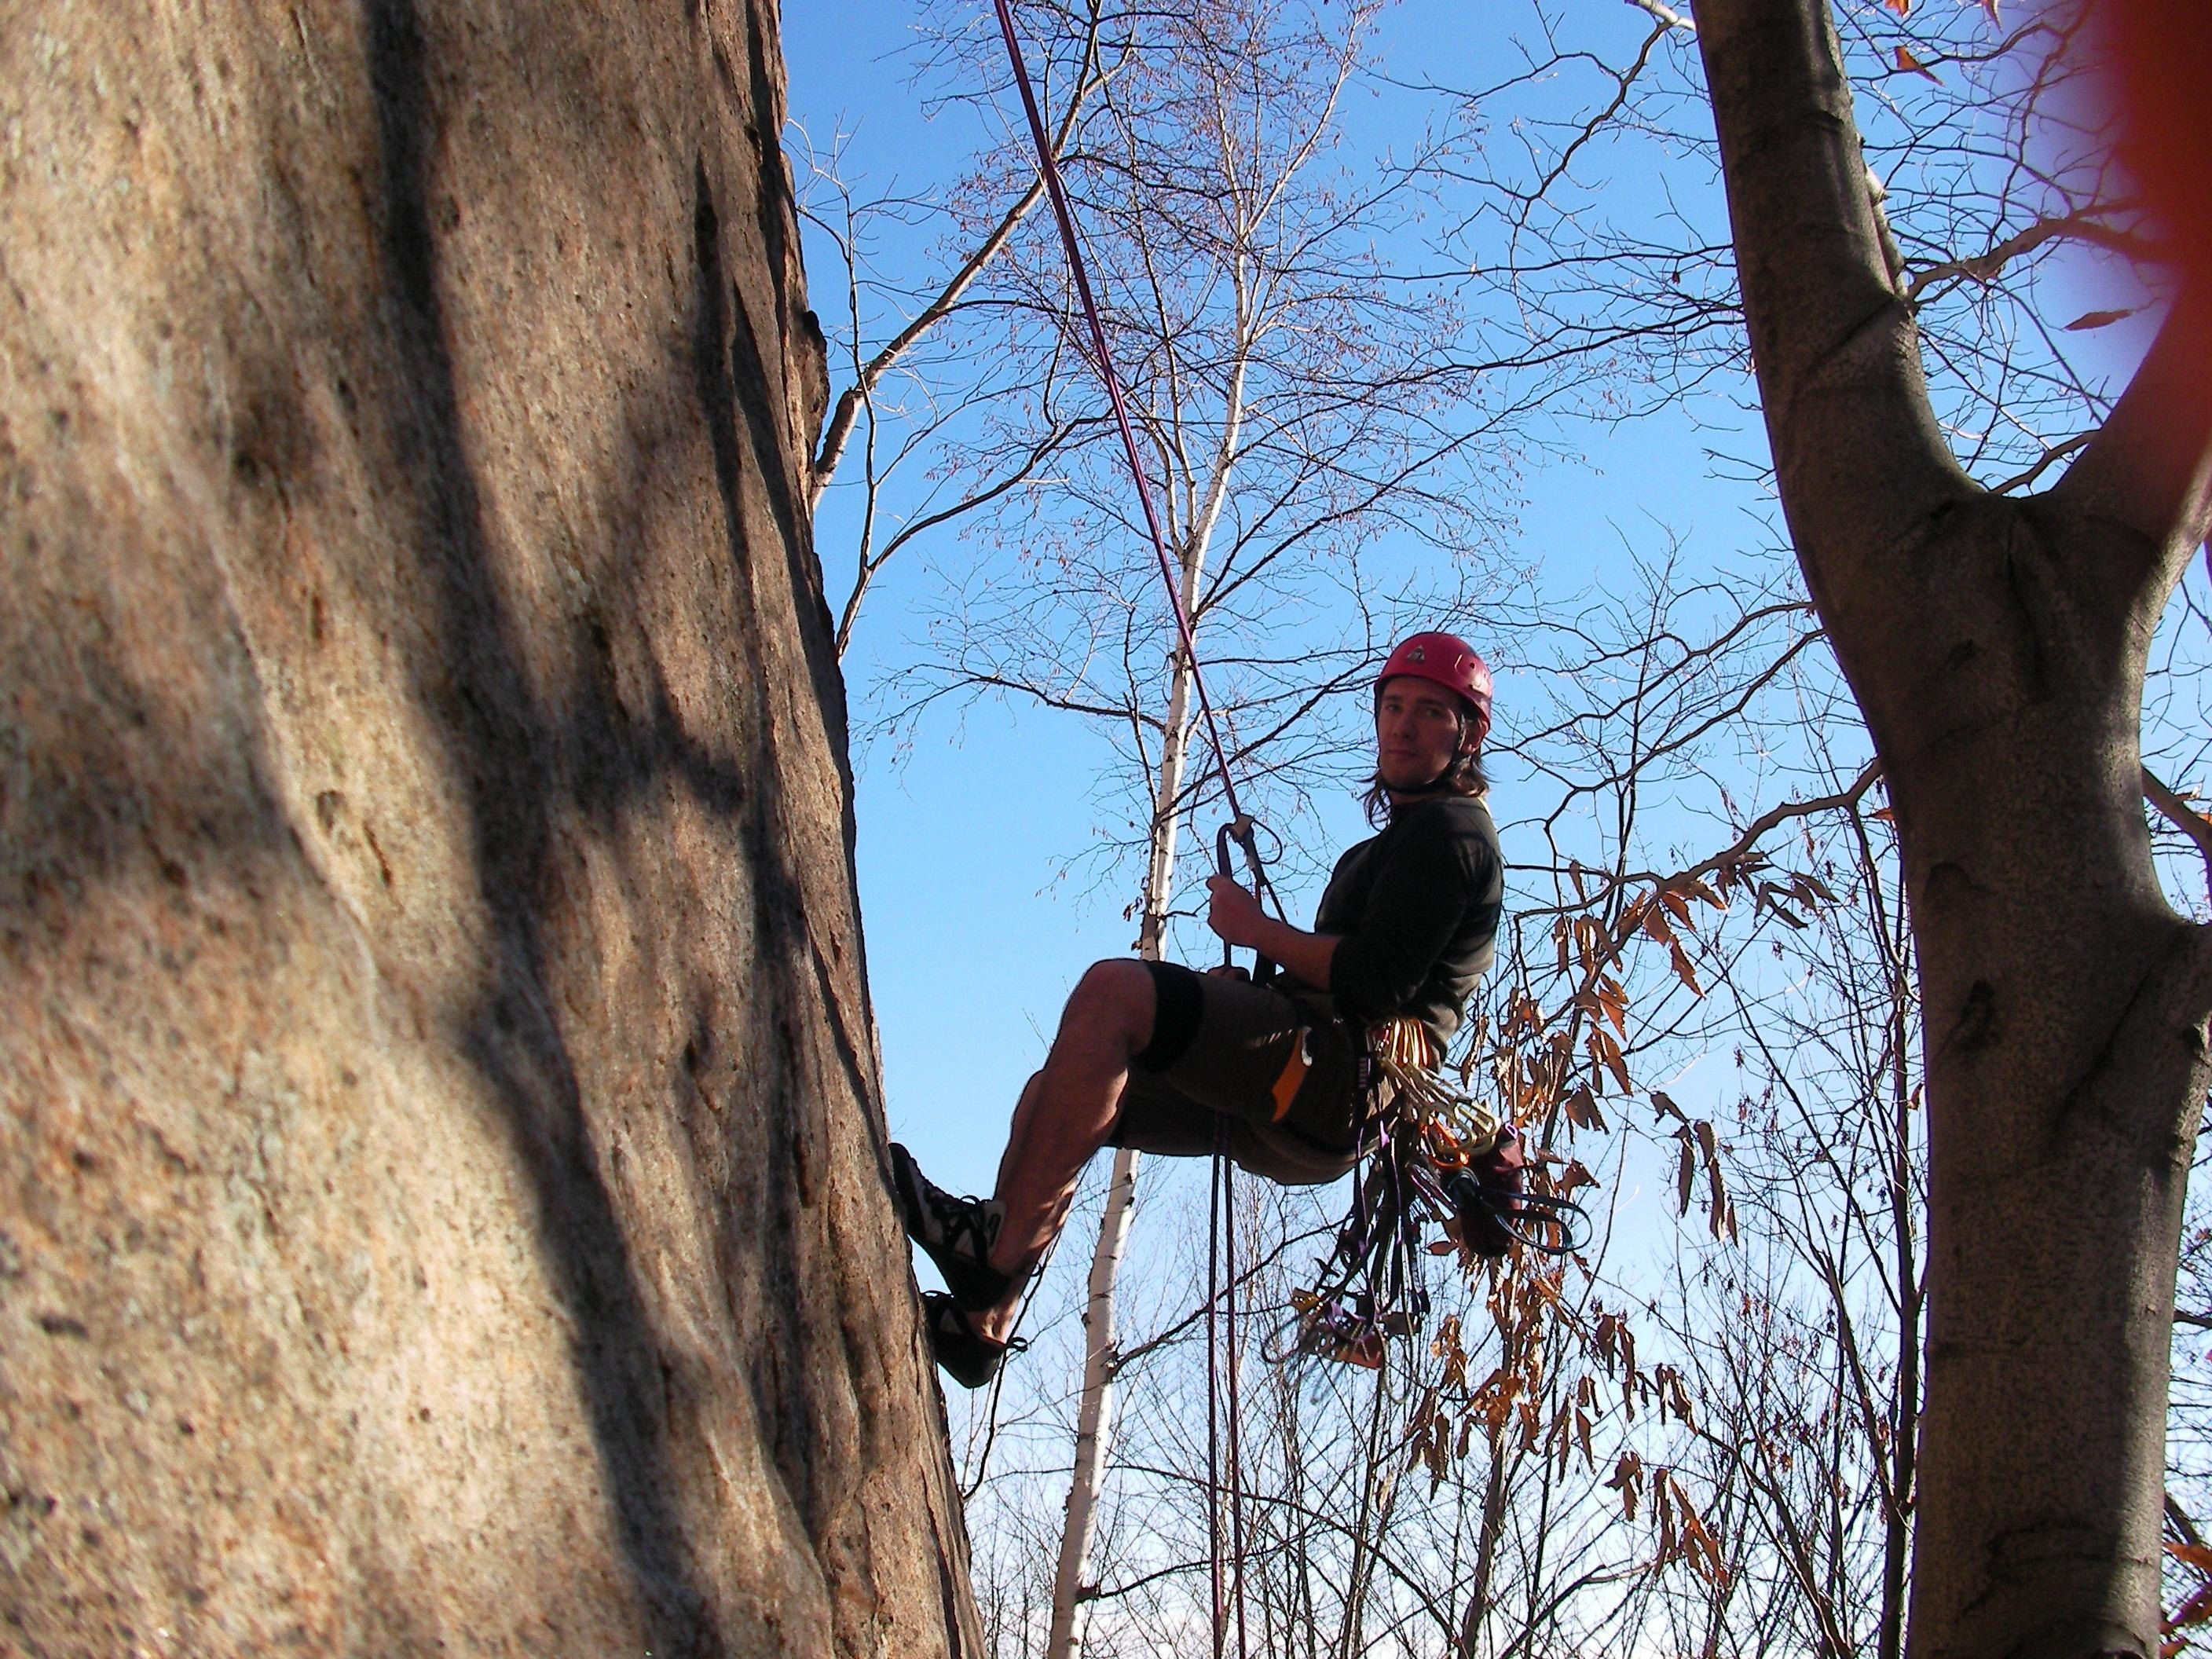helmet: (1366, 622, 1500, 735)
